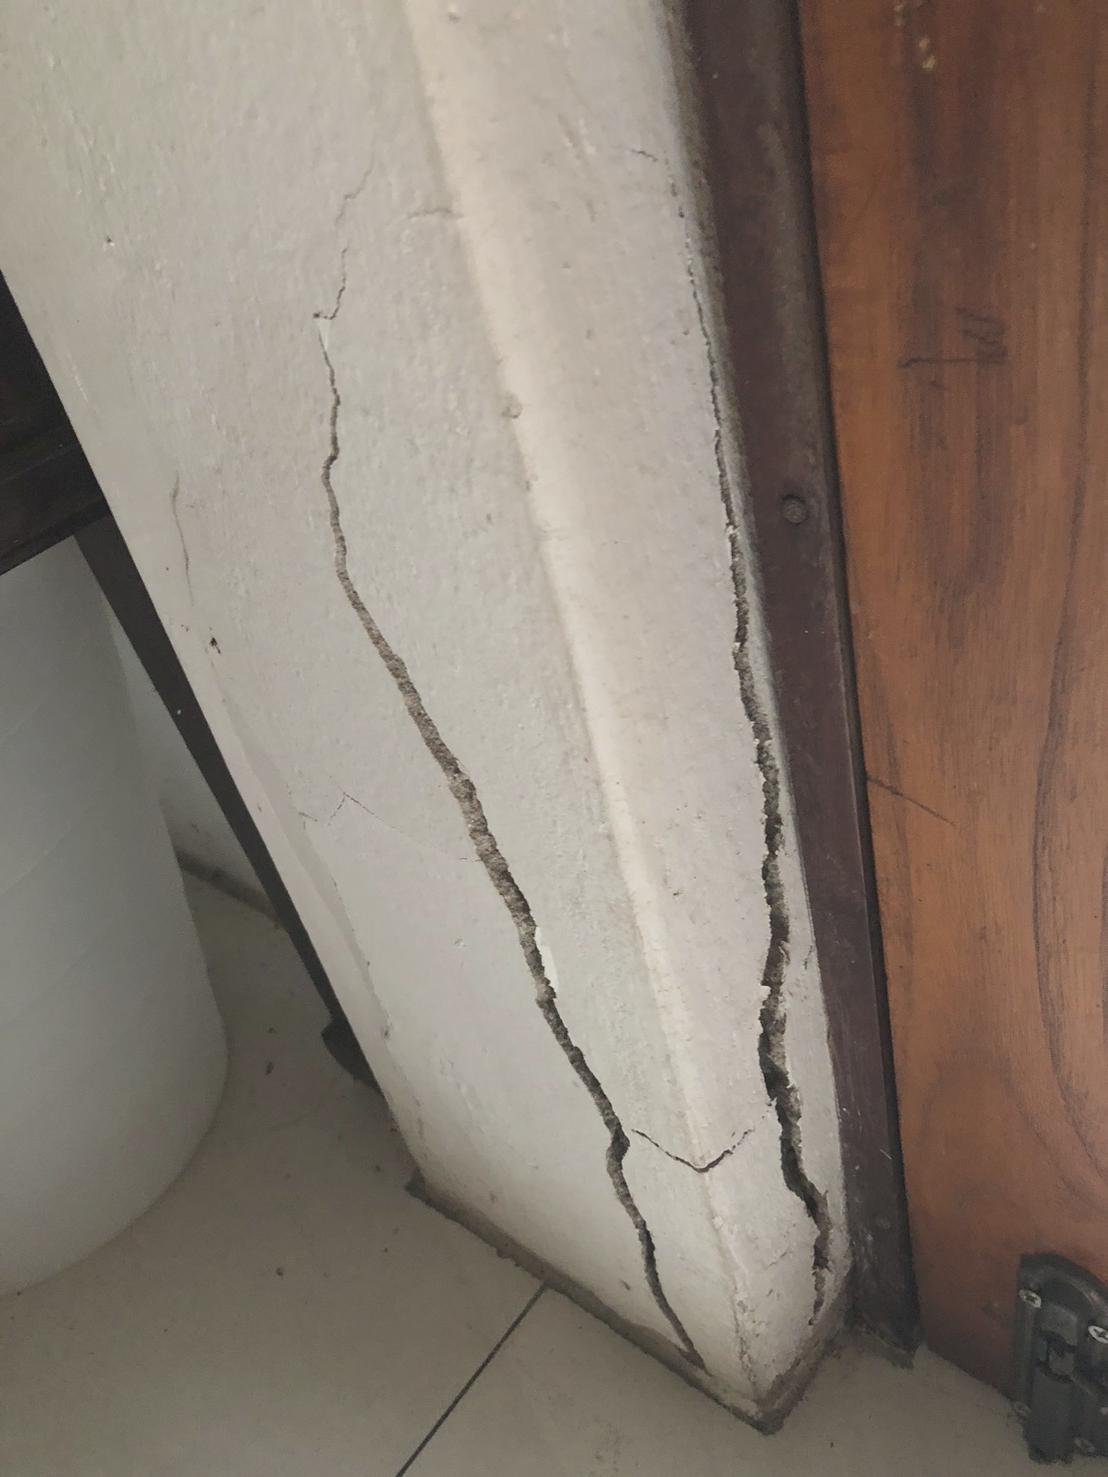High: (282, 168, 848, 1435)
